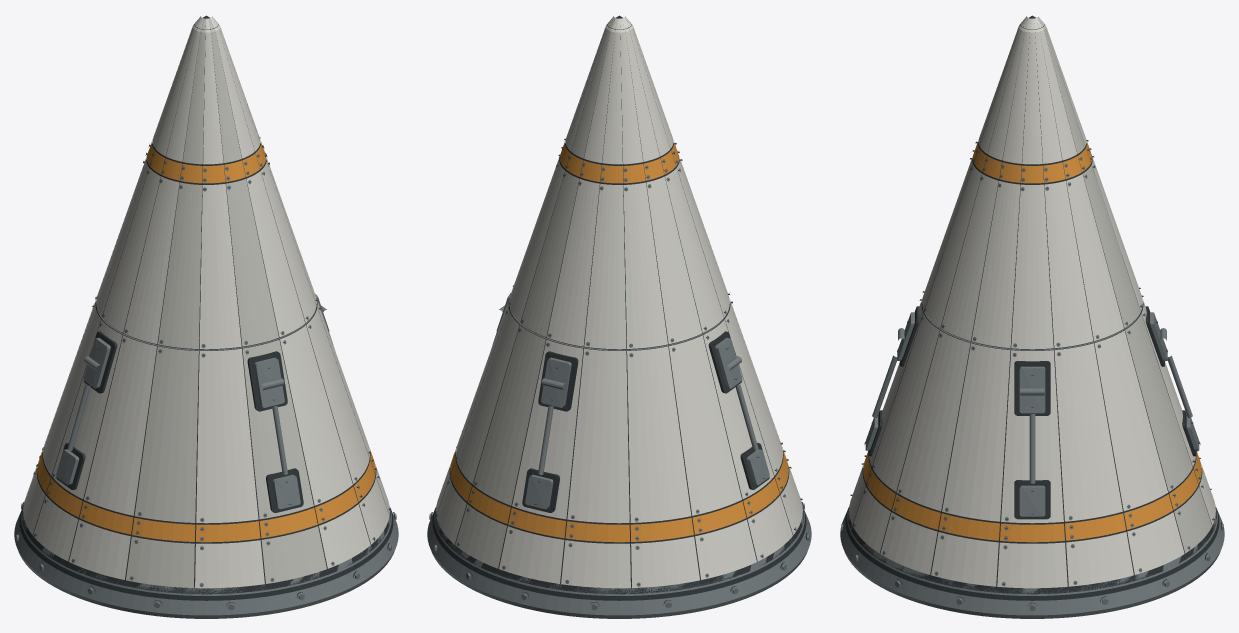
File: parachute_1.glb
3 views of the same model, side by side, from view 1: azimuth 30°, elevation 25°; view 2: azimuth 150°, elevation 25°; view 3: azimuth 270°, elevation 25° (orthographic).
Visible parts, largest first — view 1: Lower_canister, Nose_cap, Mounting ring and underside socket, Four release latches and actuator rods; view 2: Lower_canister, Nose_cap, Mounting ring and underside socket, Four release latches and actuator rods; view 3: Lower_canister, Nose_cap, Mounting ring and underside socket, Four release latches and actuator rods.
Boxes of the visible parts, x1,y1,x2,y2 form: Lower_canister: (22, 300, 390, 594); Nose_cap: (95, 15, 317, 349); Mounting ring and underside socket: (14, 502, 398, 618); Four release latches and actuator rods: (56, 294, 333, 512); Lower_canister: (435, 293, 803, 594); Nose_cap: (508, 15, 729, 349); Mounting ring and underside socket: (427, 502, 811, 618); Four release latches and actuator rods: (492, 294, 769, 512); Lower_canister: (848, 295, 1216, 594); Nose_cap: (922, 15, 1142, 349); Mounting ring and underside socket: (840, 507, 1224, 618); Four release latches and actuator rods: (864, 306, 1200, 519).
Bounding box in the file's own units: 1.26 × 1.92 × 1.26.
